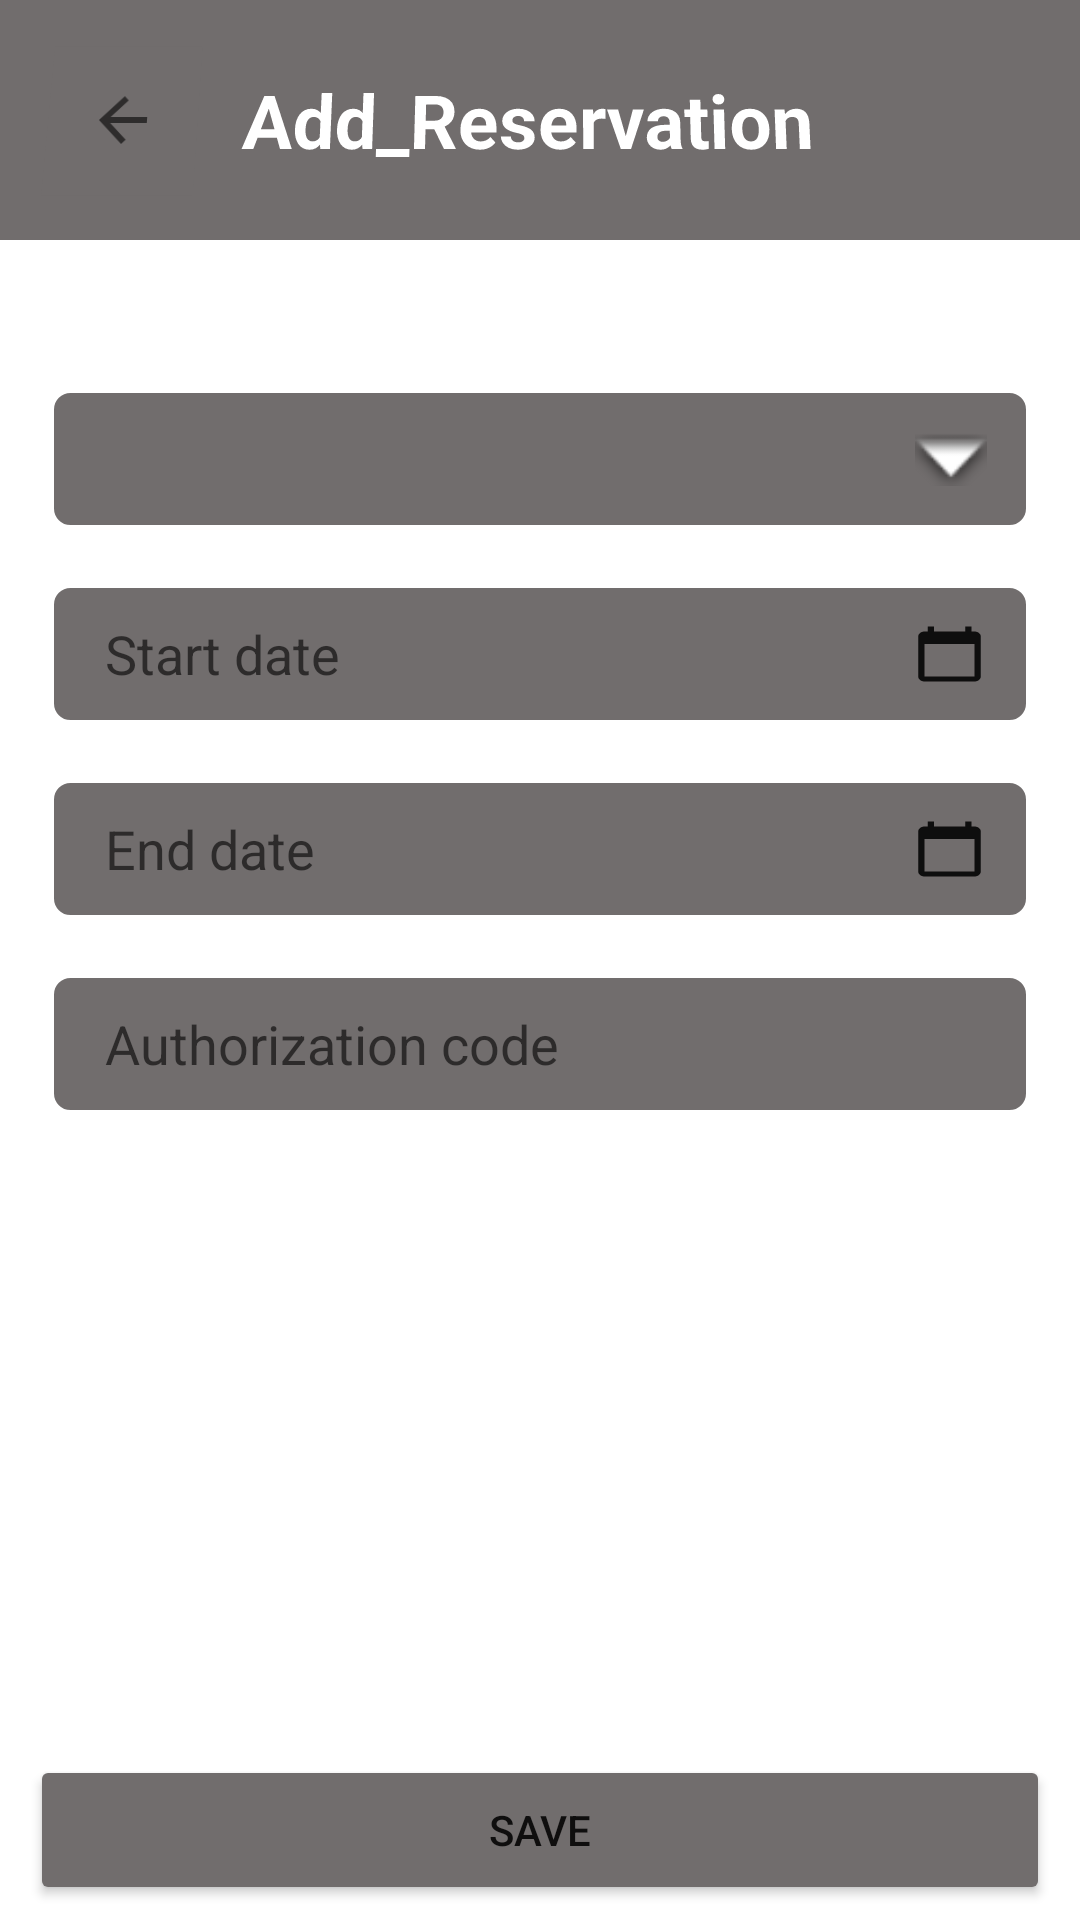

Named icons in this screenshot (1080 x 1920) and their centers, point (x, y):
arrow down float: point (950, 459)
calendar: point (949, 654), point (949, 849)
